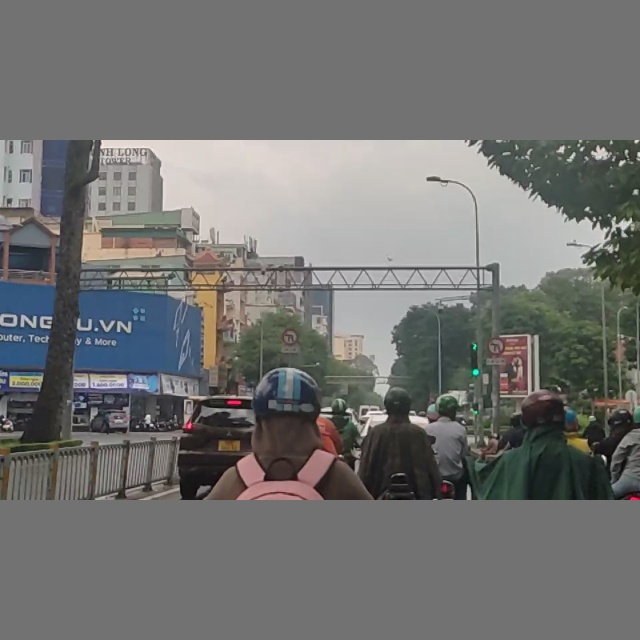P.124c: (281, 329, 299, 347), (487, 336, 504, 355)
